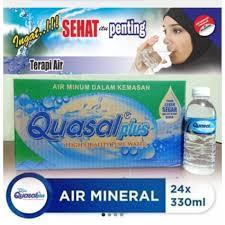BIODEGRADABLE: (185, 85, 218, 177)
